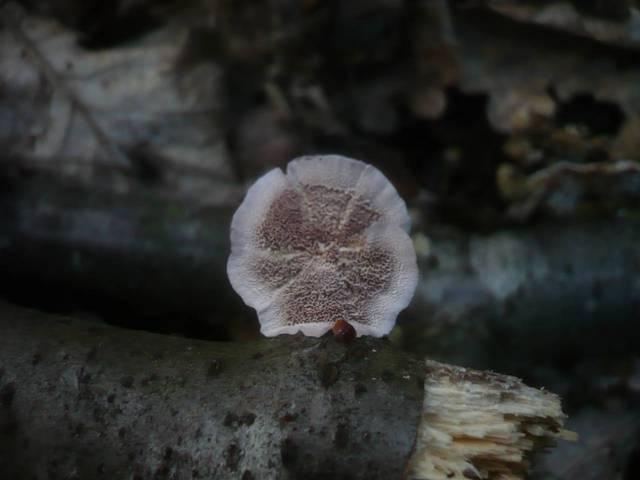Non-edible Mushroom: (224, 152, 420, 341)
